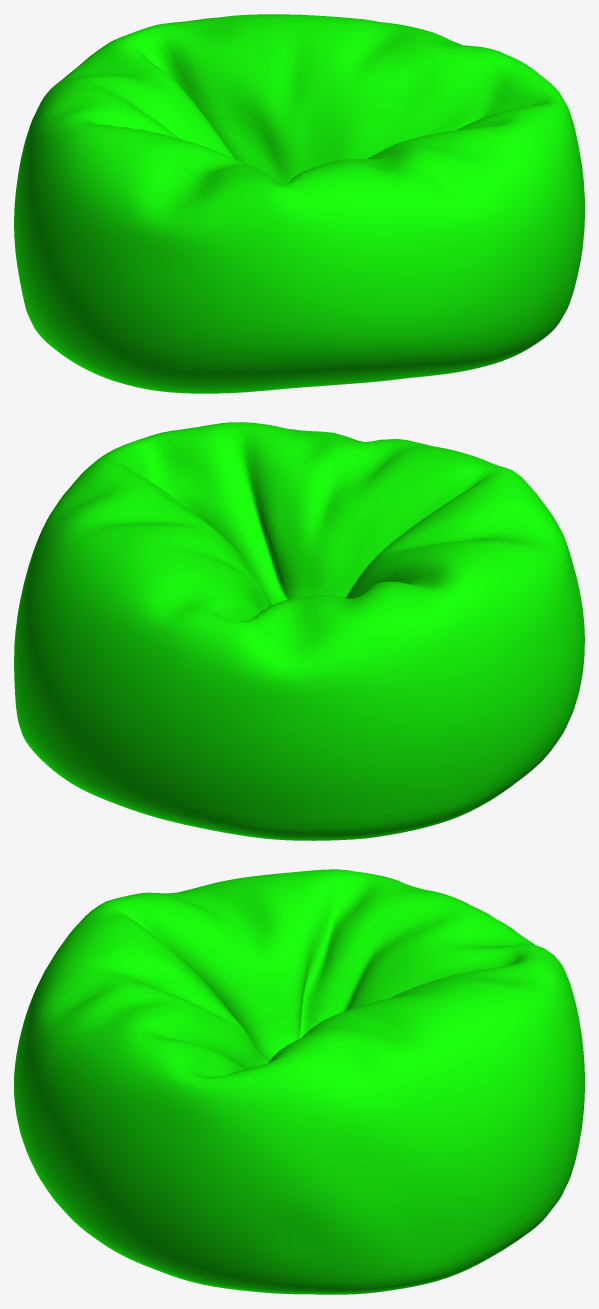
File: beanbags1.fbx
The picture shows the model from 3 angles, top to bottom: view 1: azimuth 30°, elevation 25°; view 2: azimuth 150°, elevation 25°; view 3: azimuth 270°, elevation 25°; orthographic projection.
Parts seen in each view (by area): view 1: bean_bag2; view 2: bean_bag2; view 3: bean_bag2.
Part boxes in pixels (box(x1,y1,x2,y2)): bean_bag2: box(14, 14, 584, 393); bean_bag2: box(14, 422, 584, 840); bean_bag2: box(14, 869, 584, 1294).
Size of the model in its own units: 201 by 90.15 by 200.
